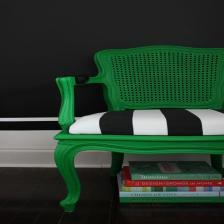green: (54, 77, 224, 212), (86, 45, 224, 111), (86, 46, 224, 111), (129, 161, 222, 180), (55, 77, 75, 131), (120, 198, 224, 203)
